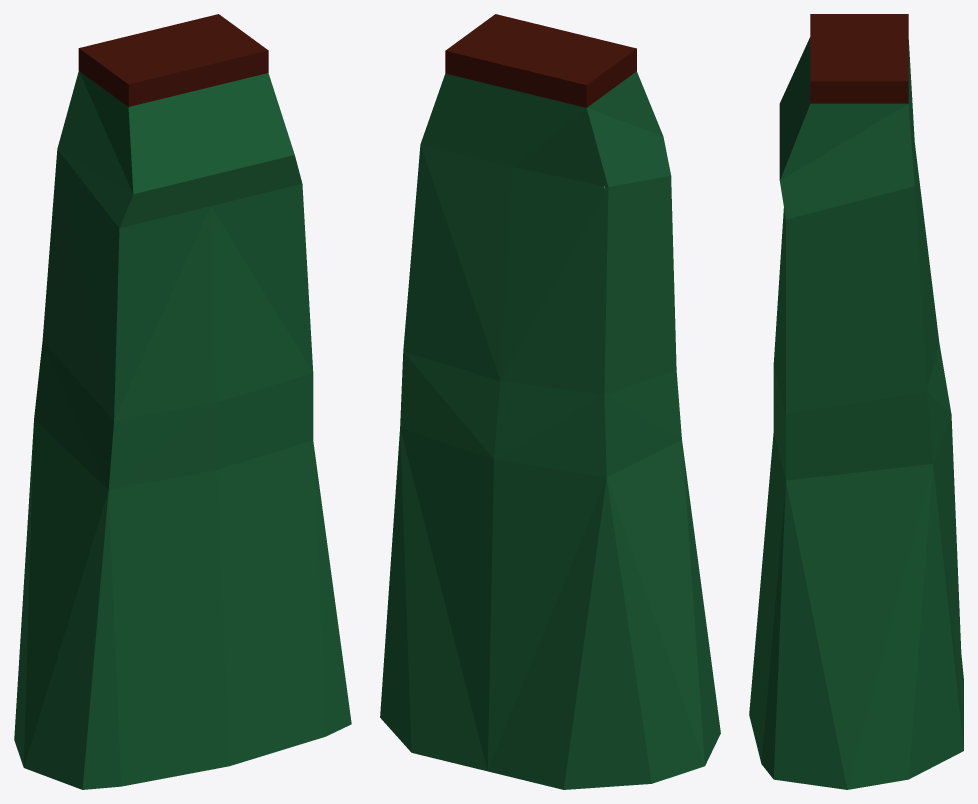
Rendered from npc_world_viyeldi_3.obj.
3 renders of one model, left to right at view 1: azimuth 30°, elevation 25°; view 2: azimuth 150°, elevation 25°; view 3: azimuth 270°, elevation 25°, orthographic. The views are drawn at different scales.
Size of the model in its own units: 0.4531 by 0.9375 by 0.2734.
